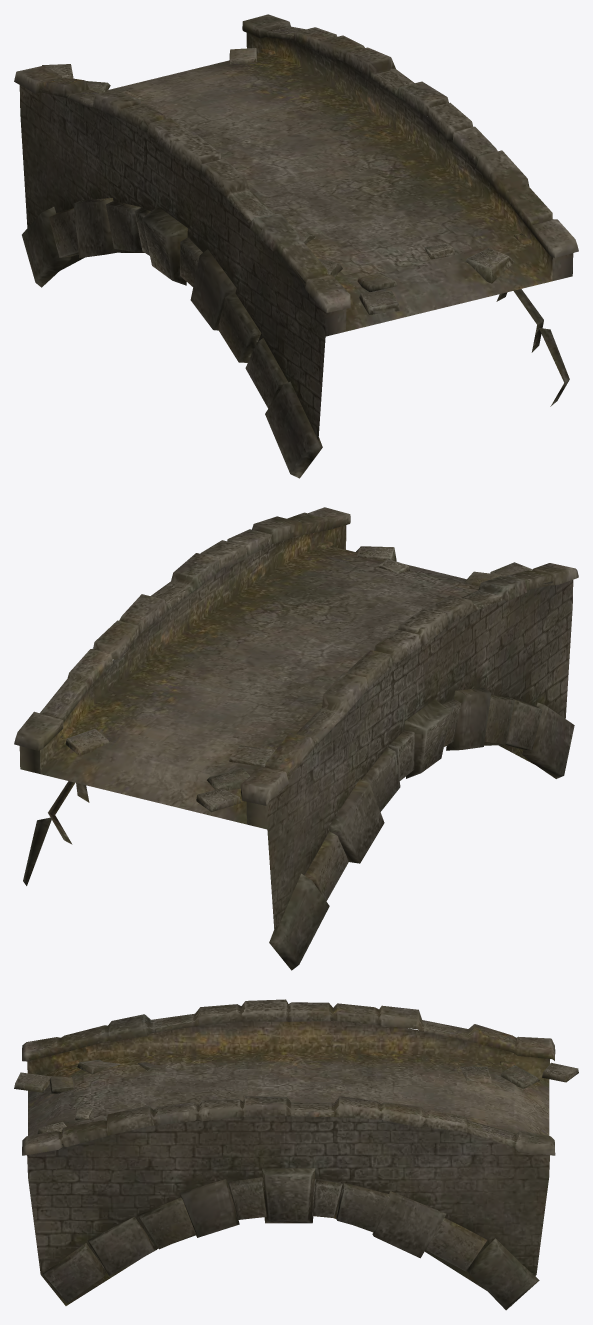
Rendered from StoneBridge_Arch-transformed.glb.
3 renders of one model, top to bottom at view 1: azimuth 30°, elevation 25°; view 2: azimuth 150°, elevation 25°; view 3: azimuth 270°, elevation 25°, orthographic. The views are drawn at different scales.
Parts seen in each view (by area): view 1: default; view 2: default; view 3: default.
Boxes of the visible parts, x1,y1,x2,y2 form: default: (14,14,578,478); default: (14,507,578,970); default: (14,999,578,1310).
Size of the model in its own units: 5.77 by 4.76 by 11.66.
Materials: 1 (1 with a texture image).
